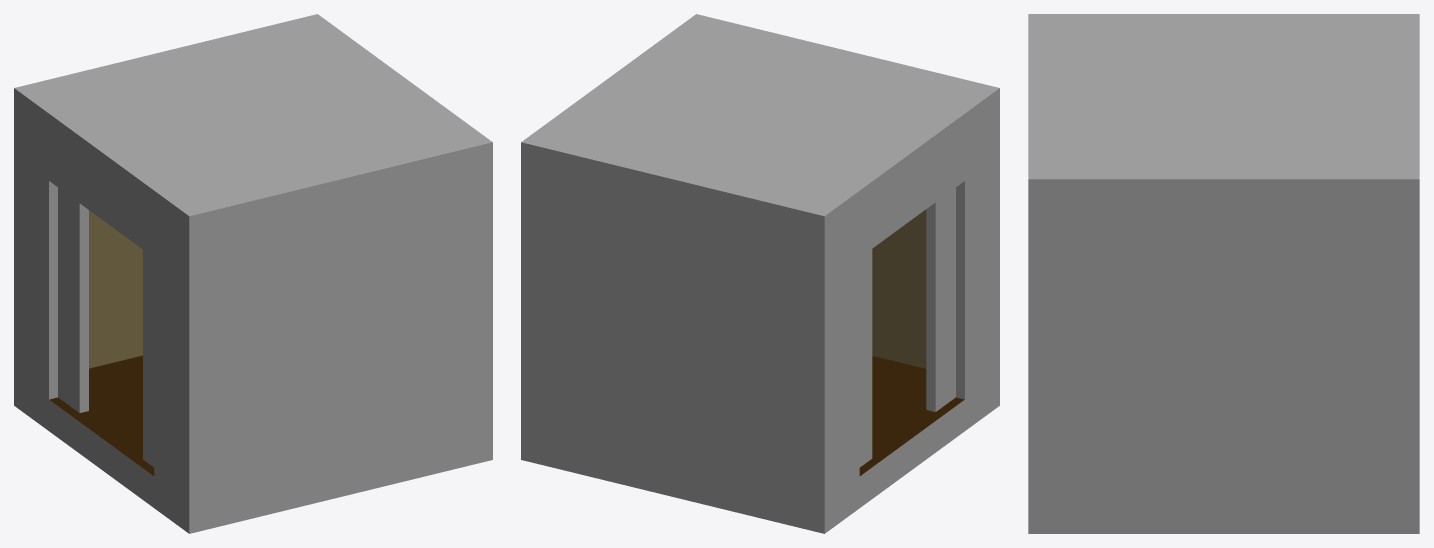
File: Elevator - Basic.glb
The picture shows the model from 3 angles, left to right: view 1: azimuth 30°, elevation 25°; view 2: azimuth 150°, elevation 25°; view 3: azimuth 270°, elevation 25°; orthographic projection. The views are drawn at different scales.
Parts seen in each view (by area): view 1: Ext Walls, Roof, Floor, Door, Door.001; view 2: Ext Walls, Roof, Floor, Door.001, Door; view 3: Ext Walls, Roof, Floor.
Part boxes in pixels (x1,y1,x2,y2): Ext Walls: (14, 120, 492, 501); Roof: (14, 14, 492, 247); Floor: (14, 355, 492, 533); Door: (58, 187, 88, 412); Door.001: (143, 250, 154, 467); Ext Walls: (521, 120, 999, 501); Roof: (521, 14, 999, 247); Floor: (521, 356, 999, 533); Door.001: (926, 187, 955, 411); Door: (859, 249, 872, 467); Ext Walls: (1028, 214, 1419, 498); Roof: (1028, 14, 1419, 214); Floor: (1028, 498, 1419, 533).
Size of the model in its own units: 3.05 by 3.05 by 3.05.
